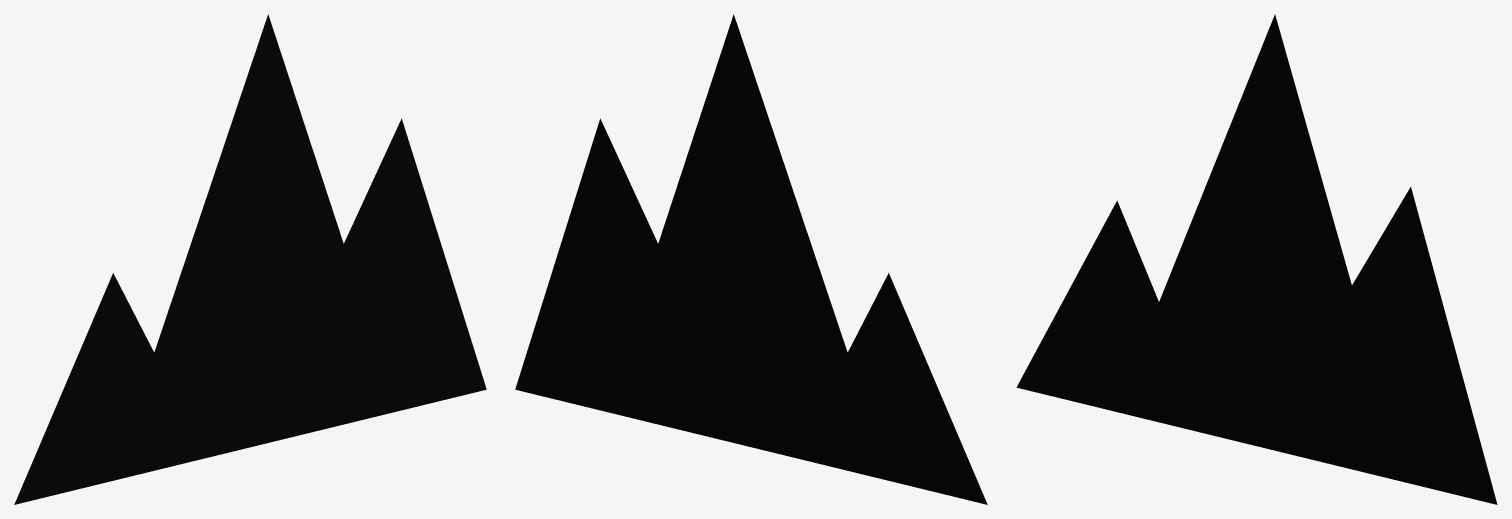
The model's file is symbol-type-Terrain.glb.
The picture shows the model from 3 angles, left to right: view 1: azimuth 30°, elevation 25°; view 2: azimuth 150°, elevation 25°; view 3: azimuth 330°, elevation 25°; orthographic projection.
Parts seen in each view (by area): view 1: symbol-type-terrain; view 2: symbol-type-terrain; view 3: symbol-type-terrain.
Part boxes in pixels (left/top/right/bottom): symbol-type-terrain: left=14, top=14, right=486, bottom=504; symbol-type-terrain: left=515, top=14, right=987, bottom=504; symbol-type-terrain: left=1016, top=14, right=1497, bottom=504.
Bounding box in the file's own units: 1.22 × 1.06 × 0.
Materials: 1 (1 with a texture image).
